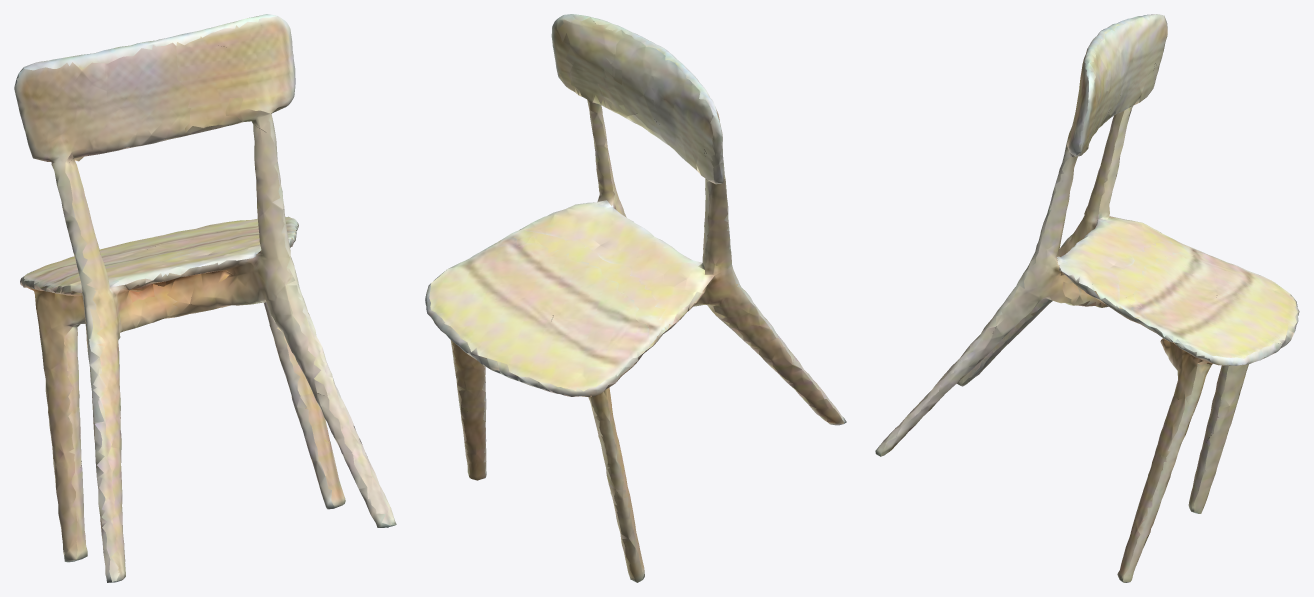
The picture shows the model from 3 angles, left to right: view 1: azimuth 30°, elevation 25°; view 2: azimuth 150°, elevation 25°; view 3: azimuth 270°, elevation 25°; orthographic projection. The views are drawn at different scales.
Visible parts, largest first — view 1: world; view 2: world; view 3: world.
Boxes of the visible parts, x1,y1,x2,y2 form: world: (14,14,396,582); world: (425,14,846,582); world: (875,14,1299,582).
Size of the model in its own units: 0.6222 by 1.01 by 0.7743.
Materials: 1 (1 with a texture image).
